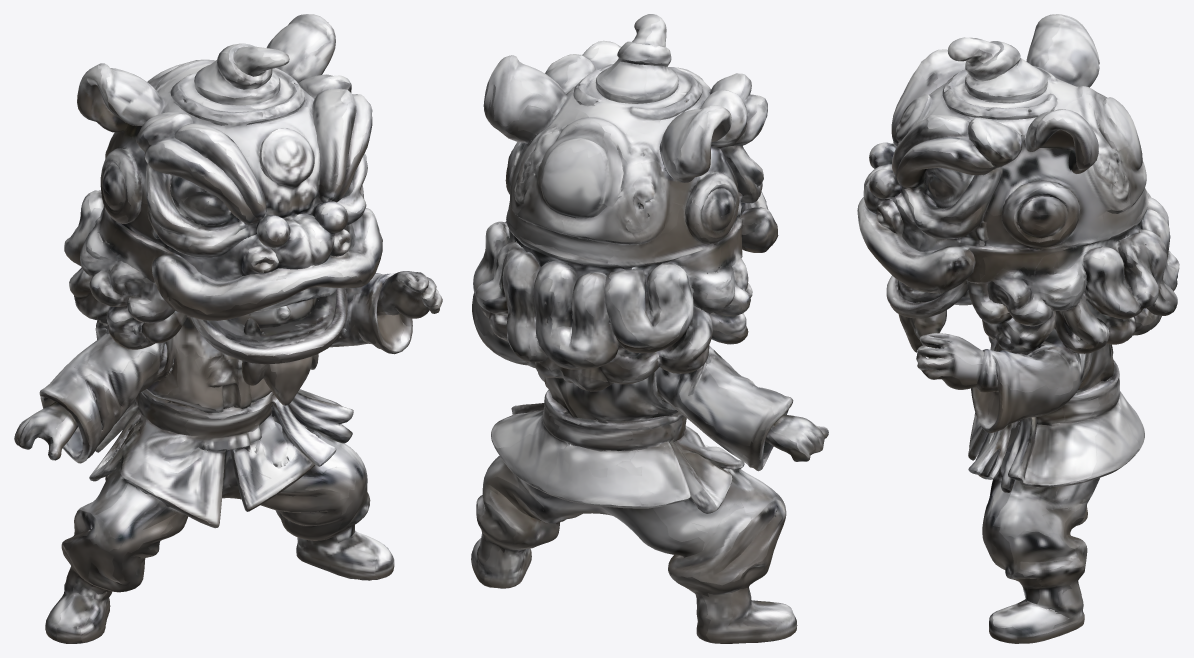
Rendered from ai-metal.glb.
3 renders of one model, left to right at view 1: azimuth 30°, elevation 25°; view 2: azimuth 150°, elevation 25°; view 3: azimuth 270°, elevation 25°, orthographic. The views are drawn at different scales.
Visible parts, largest first — view 1: geometry_0; view 2: geometry_0; view 3: geometry_0.
Boxes of the visible parts, x1=… form: geometry_0: x1=14, y1=14, x2=442, y2=643; geometry_0: x1=471, y1=14, x2=828, y2=643; geometry_0: x1=857, y1=14, x2=1179, y2=643.
Bounding box in the file's own units: 0.1242 × 0.18 × 0.0982.
1 material, 1 textured.
